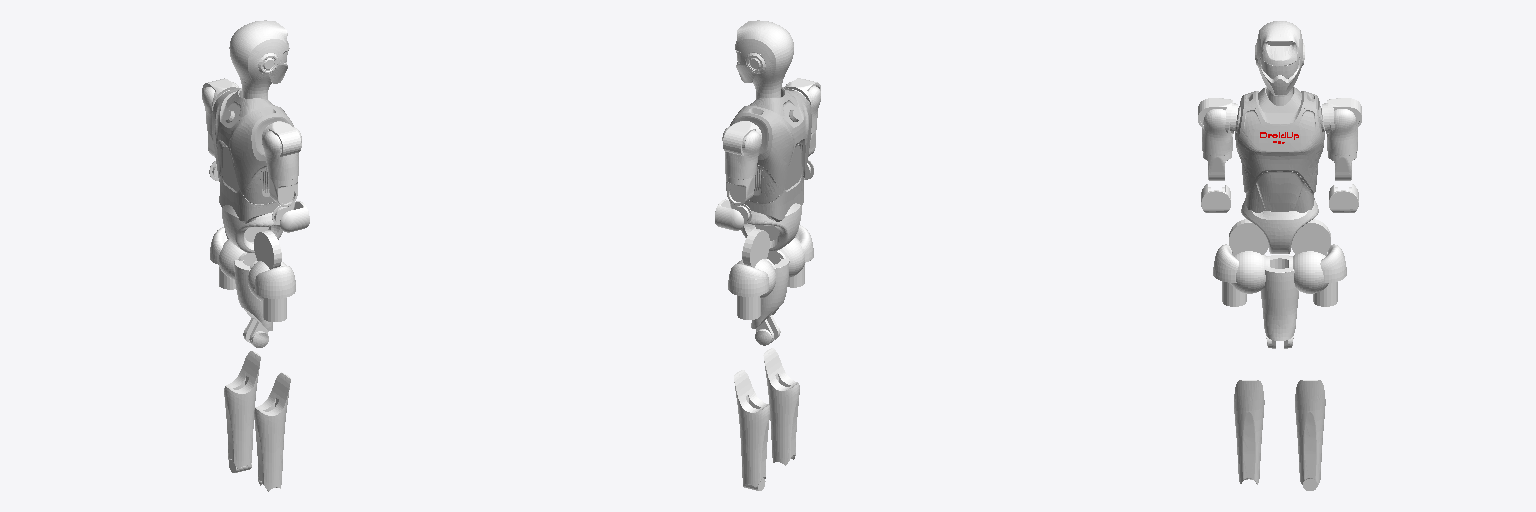
--- Facts derived from the render (not from the file) ---
Views: 3 orthographic renders of the robot side by side, from view 1: azimuth 30°, elevation 25°; view 2: azimuth 150°, elevation 25°; view 3: azimuth 270°, elevation 25°.
Model x2 with 23 links and 22 joints (18 revolute, 4 fixed), rooted at pelvis_link, posed all joints at 0.
Visible links, largest first — view 1: torso_link, head_link, R_knee_pitch_link, L_knee_pitch_link, R_hip_roll_link, pelvis_link, R_shoulder_roll_link, L_hip_yaw_link, R_elbow_pitch_link, L_hip_pitch_link, R_shoulder_pitch_link, R_shoulder_yaw_link (+1 smaller); view 2: torso_link, head_link, R_knee_pitch_link, L_knee_pitch_link, L_hip_roll_link, pelvis_link, L_shoulder_roll_link, R_hip_yaw_link, L_elbow_pitch_link, R_hip_pitch_link, L_shoulder_pitch_link, L_shoulder_yaw_link (+2 smaller); view 3: torso_link, head_link, L_knee_pitch_link, R_knee_pitch_link, L_hip_roll_link, R_hip_roll_link, pelvis_link, L_hip_yaw_link, R_hip_yaw_link, L_hip_pitch_link, R_hip_pitch_link, L_shoulder_roll_link (+5 smaller).
Link boxes in pixels (left/top/right/bottom): torso_link: left=212, top=88, right=293, bottom=223; head_link: left=229, top=20, right=289, bottom=99; R_knee_pitch_link: left=254, top=372, right=290, bottom=491; L_knee_pitch_link: left=224, top=351, right=260, bottom=469; R_hip_roll_link: left=254, top=230, right=295, bottom=321; pelvis_link: left=222, top=205, right=282, bottom=252; R_shoulder_roll_link: left=262, top=127, right=301, bottom=180; L_hip_yaw_link: left=234, top=260, right=272, bottom=347; R_elbow_pitch_link: left=272, top=201, right=309, bottom=232; L_hip_pitch_link: left=218, top=239, right=256, bottom=279; R_shoulder_pitch_link: left=262, top=121, right=301, bottom=156; R_shoulder_yaw_link: left=269, top=177, right=297, bottom=206; torso_link: left=730, top=87, right=811, bottom=221; head_link: left=735, top=20, right=793, bottom=98; R_knee_pitch_link: left=763, top=348, right=799, bottom=465; L_knee_pitch_link: left=734, top=370, right=769, bottom=487; L_hip_roll_link: left=728, top=229, right=769, bottom=319; pelvis_link: left=741, top=203, right=801, bottom=250; L_shoulder_roll_link: left=722, top=126, right=761, bottom=179; R_hip_yaw_link: left=751, top=258, right=789, bottom=345; L_elbow_pitch_link: left=715, top=199, right=751, bottom=230; R_hip_pitch_link: left=767, top=238, right=804, bottom=277; L_shoulder_pitch_link: left=723, top=121, right=761, bottom=155; L_shoulder_yaw_link: left=726, top=175, right=754, bottom=205; torso_link: left=1235, top=86, right=1324, bottom=212; head_link: left=1255, top=21, right=1304, bottom=105; L_knee_pitch_link: left=1295, top=380, right=1325, bottom=484; R_knee_pitch_link: left=1234, top=380, right=1264, bottom=484; L_hip_roll_link: left=1291, top=219, right=1346, bottom=306; R_hip_roll_link: left=1213, top=219, right=1268, bottom=306; pelvis_link: left=1241, top=200, right=1318, bottom=253; L_hip_yaw_link: left=1264, top=255, right=1298, bottom=348; R_hip_yaw_link: left=1261, top=255, right=1295, bottom=348; L_hip_pitch_link: left=1289, top=251, right=1328, bottom=293; R_hip_pitch_link: left=1230, top=251, right=1269, bottom=293; L_shoulder_roll_link: left=1327, top=109, right=1357, bottom=155.
Size in the robot's own frame: 0.248 by 0.54 by 1.68 metres.
22 mesh visuals loaded from 23 distinct referenced files (22 binary STL); not drawn: 1 (reference not matched to a file when rendering).

robot.urdf — x2:
<robot name="x2">
  <mujoco>
    <compiler meshdir="./meshes" discardvisual="false" />
  </mujoco>

  <link name="pelvis_link">
    <inertial>
      <origin xyz="0 0 0.001" rpy="0 0 0" />
      <mass value="0.1" />
      <inertia ixx="0.00003053" ixy="0.0000000" ixz="0.00000000" iyy="0.00003053" iyz="0.00000000" izz="0.00000500" />
    </inertial>
    <visual>
      <origin xyz="0 0 0" rpy="0 0 0" />
      <geometry>
        <mesh filename="meshes/pelvis_link.STL" />
      </geometry>
      <material name="">
        <color rgba="1 1 1 1" />
      </material>
    </visual>
    <collision>
      <origin xyz="0 0 0" rpy="0 0 0" />
      <geometry>
        <mesh filename="meshes/pelvis_link.STL" />
      </geometry>
    </collision>
  </link>
  <link name="L_hip_yaw_link">
    <inertial>
      <origin xyz="-0.0005618 0.01983101 0.00885104" rpy="0 0 0" />
      <mass value="0.841" />
      <inertia ixx="0.00175231" ixy="0.00003788" ixz="0.00000418" iyy="0.00059335" iyz="-0.00014762" izz="0.00173830" />
    </inertial>
    <visual>
      <origin xyz="0 0 0" rpy="0 0 0" />
      <geometry>
        <mesh filename="meshes/L_hip_yaw_link.STL" />
      </geometry>
      <material name="">
        <color rgba="1 1 1 1" />
      </material>
    </visual>
    <collision>
      <origin xyz="0 0 0" rpy="0 0 0" />
      <geometry>
        <mesh filename="meshes/L_hip_yaw_link.STL" />
      </geometry>
    </collision> -->
  </link>
  <joint name="L_hip_yaw" type="revolute">
    <origin xyz="0 0 0" rpy="0 0 0" />
    <parent link="pelvis_link" />
    <child link="L_hip_yaw_link" />
    <axis xyz="0 0 1" />
    <limit lower="-0.7854" upper="0.7854" effort="100" velocity="30" />
  </joint>
  <link name="L_hip_roll_link">
    <inertial>
      <origin xyz="-0.03247252 0.00017925 -0.07264839" rpy="0 0 0" />
      <mass value="2.667" />
      <inertia ixx="0.007970422" ixy="-0.00001767" ixz="0.00171027" iyy="0.01086223" iyz="-0.00001804" izz="0.00754180" />
    </inertial>
    <visual>
      <origin xyz="0 0 0" rpy="0 0 0" />
      <geometry>
        <mesh filename="meshes/L_hip_roll_link.STL" />
      </geometry>
      <material name="">
        <color rgba="1 1 1 1" />
      </material>
    </visual>
    <collision>
      <origin xyz="0 0 0" rpy="0 0 0" />
      <geometry>
        <mesh filename="meshes/L_hip_roll_link.STL" />
      </geometry>
    </collision> -->
  </link>
  <joint name="L_hip_roll" type="revolute">
    <origin xyz="-0.0095 0.10 0" rpy="0 0 0" />
    <parent link="L_hip_yaw_link" />
    <child link="L_hip_roll_link" />
    <axis xyz="1 0 0" />
    <limit lower="-0.349" upper="0.524" effort="100" velocity="30" />
  </joint>
  <link name="L_hip_pitch_link">
    <inertial>
      <origin xyz="0.00382921 0 -0.18548450" rpy="0 0 0" />
      <mass value="1.664" />
      <inertia ixx="0.01443710" ixy="0.00000000" ixz="-0.00089513" iyy="0.01484426" iyz="-0.00000003" izz="0.00315739" />
    </inertial>
    <visual>
      <origin xyz="0 0 0" rpy="0 0 0" />
      <geometry>
        <mesh filename="meshes/L_hip_pitch_link.STL" />
      </geometry>
      <material name="">
        <color rgba="1 1 1 1" />
      </material>
    </visual>
    <collision>
      <origin xyz="0 0 0" rpy="0 0 0" />
      <geometry>
        <mesh filename="meshes/L_hip_pitch_link.STL" />
      </geometry>
    </collision>
  </link>
  <joint name="L_hip_pitch" type="revolute">
    <origin xyz="0.0085 -0.00100000000000001 -0.11" rpy="0 0 0" />
    <parent link="L_hip_roll_link" />
    <child link="L_hip_pitch_link" />
    <axis xyz="0 1 0" />
    <limit lower="-2.4434" upper="0.526" effort="100" velocity="30" />
  </joint>
  <link name="L_knee_pitch_link">
    <inertial>
      <origin xyz="0.00140265 0 -0.15875986" rpy="0 0 0" />
      <mass value="1.125" />
      <inertia ixx="0.00985892" ixy="0.00000000" ixz="0.00035856" iyy="0.00999859" iyz="-0.00000003" izz="0.00102379" />
    </inertial>
    <visual>
      <origin xyz="0 0 0" rpy="0 0 0" />
      <geometry>
        <mesh filename="meshes/L_knee_pitch_link.STL" />
      </geometry>
      <material name="">
        <color rgba="1 1 1 1" />
      </material>
    </visual>
    <collision>
      <origin xyz="0 0 0" rpy="0 0 0" />
      <geometry>
        <mesh filename="meshes/L_knee_pitch_link.STL" />
      </geometry>
    </collision>
  </link>
  <joint name="L_knee_pitch" type="revolute">
    <origin xyz="0 0 -0.35" rpy="0 0 0" />
    <parent link="L_hip_pitch_link" />
    <child link="L_knee_pitch_link" />
    <axis xyz="0 1 0" />
    <limit lower="-0" upper="2.3561" effort="100" velocity="30" />
  </joint>
  <link name="L_ankle_pitch_link">
    <inertial>
      <origin xyz="0.0393987623680991 -0.000237277713772188 -0.0784143417886232" rpy="0 0 0" />
      <mass value="0.556154115746433" />
       <inertia ixx="0.00032584056406277" ixy="-3.52704729229917E-06" ixz="-3.15470198590693E-05" iyy="0.00243296196329658" iyz="3.92516794179968E-07" izz="0.00260484732439791" />
<!--      <inertia ixx="0.01" ixy="0" ixz="-2.9E-06" iyy="0.01" iyz="0" izz="0.01"/>-->
    </inertial>
    <visual>
      <origin xyz="0 0 0" rpy="0 0 0" />
      <geometry>
        <mesh filename="meshes/L_ankle_pitch_link.STL" />
      </geometry>
      <material name="">
        <color rgba="1 1 1 1" />
      </material>
    </visual>
    <collision>
      <origin xyz="-0.14 0.00 -0.087" rpy="0 0 0"/>
      <geometry>
        <sphere radius="0.005"/>
      </geometry>
    </collision>
    <collision>
      <origin xyz="-0.080 0.045 -0.087" rpy="0 0 0"/>
      <geometry>
        <sphere radius="0.005"/>
      </geometry>
    </collision>

        <collision>
      <origin xyz="-0.115 0.035 -0.087" rpy="0 0 0"/>
      <geometry>
        <sphere radius="0.005"/>
      </geometry>
    </collision>
    <collision>
      <origin xyz="-0.115 -0.035 -0.087" rpy="0 0 0"/>
      <geometry>
        <sphere radius="0.005"/>
      </geometry>
    </collision>

    <collision>
      <origin xyz="-0.080 -0.045 -0.087" rpy="0 0 0"/>
      <geometry>
        <sphere radius="0.005"/>
      </geometry>
    </collision>
    <collision>
      <origin xyz="0.090 0.050 -0.087" rpy="0 0 0"/>
      <geometry>
        <sphere radius="0.005"/>
      </geometry>
    </collision>
    <collision>
      <origin xyz="0.090 -0.050 -0.087" rpy="0 0 0"/>
      <geometry>
        <sphere radius="0.005"/>
      </geometry>
    </collision>

    <collision>
      <origin xyz="0.120 -0.00 -0.087" rpy="0 0 0"/>
      <geometry>
        <sphere radius="0.005"/>
      </geometry>
    </collision>

    <collision>
      <origin xyz="0.120 0.045 -0.087" rpy="0 0 0"/>
      <geometry>
        <sphere radius="0.005"/>
      </geometry>
    </collision>

    <collision>
      <origin xyz="0.120 -0.045 -0.087" rpy="0 0 0"/>
      <geometry>
        <sphere radius="0.005"/>
      </geometry>
    </collision>

    <collision>
      <origin xyz="0.150 -0.00 -0.087" rpy="0 0 0"/>
      <geometry>
        <sphere radius="0.005"/>
      </geometry>
    </collision>
  </link>
  <joint name="L_ankle_pitch" type="revolute">
    <origin xyz="0 0 -0.35" rpy="0 0 0" />
    <parent link="L_knee_pitch_link" />
    <child link="L_ankle_pitch_link" />
    <axis xyz="0 1 0" />
    <limit lower="-1.2217" upper="1.2217" effort="50" velocity="30" />
  </joint>
  <link name="R_hip_yaw_link">
    <inertial>
      <origin xyz="-0.00116447172536395 -0.0404494528952502 1.93208404151757E-18" rpy="0 0 0" />
      <mass value="0.21920189004537" />
      <inertia ixx="0.00059823911672333" ixy="-1.52005393557497E-05" ixz="-6.79522760641359E-21" iyy="0.000157505412929931" iyz="2.64697796016969E-20" izz="0.000555362014045214" />
    </inertial>
    <visual>
      <origin xyz="0 0 0" rpy="0 0 0" />
      <geometry>
        <mesh filename="meshes/R_hip_yaw_link.STL" />
      </geometry>
      <material name="">
        <color rgba="1 1 1 1" />
      </material>
    </visual>
    <collision>
      <origin xyz="0 0 0" rpy="0 0 0" />
      <geometry>
        <mesh filename="meshes/R_hip_yaw_link.STL" />
      </geometry>
    </collision> -->
  </link>
  <joint name="R_hip_yaw" type="revolute">
    <origin xyz="0 0 0" rpy="0 0 0" />
    <parent link="pelvis_link" />
    <child link="R_hip_yaw_link" />
    <axis xyz="0 0 1" />
    <limit lower="-0.7854" upper="0.7854" effort="100" velocity="30" />
  </joint>
  <link name="R_hip_roll_link">
    <inertial>
      <origin xyz="-0.03247252 0.00017925 -0.07264839" rpy="0 0 0" />
      <mass value="2.667" />
      <inertia ixx="0.007970422" ixy="-0.00001767" ixz="0.00171027" iyy="0.01086223" iyz="-0.00001804" izz="0.00754180" />
    </inertial>
    <visual>
      <origin xyz="0 0 0" rpy="0 0 0" />
      <geometry>
        <mesh filename="meshes/R_hip_roll_link.STL" />
      </geometry>
      <material name="">
        <color rgba="1 1 1 1" />
      </material>
    </visual>
    <collision>
      <origin xyz="0 0 0" rpy="0 0 0" />
      <geometry>
        <mesh filename="meshes/R_hip_roll_link.STL" />
      </geometry>
    </collision> -->
  </link>
  <joint name="R_hip_roll" type="revolute">
    <origin xyz="-0.0095 -0.10 0" rpy="0 0 0" />
    <parent link="R_hip_yaw_link" />
    <child link="R_hip_roll_link" />
    <axis xyz="1 0 0" />
    <limit lower="-0.524" upper="0.349" effort="100" velocity="30" />
  </joint>
  <link name="R_hip_pitch_link">
    <inertial>
      <origin xyz="0.00382921 0 -0.1854850" rpy="0 0 0" />
      <mass value="1.664" />
      <inertia ixx="0.01443710" ixy="-0.00000000" ixz="-0.00089513" iyy="0.01484426" iyz="0.00000003" izz="0.00315739" />
    </inertial>
    <visual>
      <origin xyz="0 0 0" rpy="0 0 0" />
      <geometry>
        <mesh filename="meshes/R_hip_pitch_link.STL" />
      </geometry>
      <material name="">
        <color rgba="1 1 1 1" />
      </material>
    </visual>
    <collision>
      <origin xyz="0 0 0" rpy="0 0 0" />
      <geometry>
        <mesh filename="meshes/R_hip_pitch_link.STL" />
      </geometry>
    </collision>
  </link>
  <joint name="R_hip_pitch" type="revolute">
    <origin xyz="0.0085 -0.001 -0.11" rpy="0 0 0" />
    <parent link="R_hip_roll_link" />
    <child link="R_hip_pitch_link" />
    <axis xyz="0 1 0" />
    <limit lower="-2.4434" upper="0.526" effort="100" velocity="30" />
  </joint>
  <link name="R_knee_pitch_link">
    <inertial>
      <origin xyz="0.00140265 0 -0.15875986" rpy="0 0 0" />
      <mass value="1.125" />
      <inertia ixx="0.00985892" ixy="-0.00000000" ixz="0.00035856" iyy="0.00999859" iyz="0.00000003" izz="0.00102379" />
    </inertial>
    <visual>
      <origin xyz="0 0 0" rpy="0 0 0" />
      <geometry>
        <mesh filename="meshes/R_knee_pitch_link.STL" />
      </geometry>
      <material name="">
        <color rgba="1 1 1 1" />
      </material>
    </visual>
    <collision>
      <origin xyz="0 0 0" rpy="0 0 0" />
      <geometry>
        <mesh filename="meshes/R_knee_pitch_link.STL" />
      </geometry>
    </collision>
  </link>
  <joint name="R_knee_pitch" type="revolute">
    <origin xyz="0 0 -0.35" rpy="0 0 0" />
    <parent link="R_hip_pitch_link" />
    <child link="R_knee_pitch_link" />
    <axis xyz="0 1 0" />
    <limit lower="-0" upper="2.3561" effort="100" velocity="30" />
  </joint>
  <link name="R_ankle_pitch_link">
    <inertial>
      <origin xyz="0.0393998134614837 0.000237080400869755 -0.078414481781949" rpy="0 0 0" />
      <mass value="0.556160945494453" />
       <inertia ixx="0.00032584056406277" ixy="3.52704729229917E-06" ixz="-3.15470198590693E-05" iyy="0.00243296196329658" iyz="-3.92516794179968E-07" izz="0.00260484732439791" />
<!--      <inertia ixx="0.01" ixy="0" ixz="-2.9E-06" iyy="0.01" iyz="0" izz="0.01"/>-->
    </inertial>
    <visual>
      <origin xyz="0 0 0" rpy="0 0 0" />
      <geometry>
        <mesh filename="meshes/R_ankle_pitch_link.STL" />
      </geometry>
      <material name="">
        <color rgba="1 1 1 1" />
      </material>
    </visual>
    <collision>
      <origin xyz="-0.14 0.00 -0.087" rpy="0 0 0"/>
      <geometry>
        <sphere radius="0.005"/>
      </geometry>
    </collision>

        <collision>
      <origin xyz="0.120 0.045 -0.087" rpy="0 0 0"/>
      <geometry>
        <sphere radius="0.005"/>
      </geometry>
    </collision>

    <collision>
      <origin xyz="0.120 -0.045 -0.087" rpy="0 0 0"/>
      <geometry>
        <sphere radius="0.005"/>
      </geometry>
    </collision>

    <collision>
      <origin xyz="0.120 -0.00 -0.087" rpy="0 0 0"/>
      <geometry>
        <sphere radius="0.005"/>
      </geometry>
    </collision>
    <collision>
      <origin xyz="-0.115 0.035 -0.087" rpy="0 0 0"/>
      <geometry>
        <sphere radius="0.005"/>
      </geometry>
    </collision>
    <collision>
      <origin xyz="-0.115 -0.035 -0.087" rpy="0 0 0"/>
      <geometry>
        <sphere radius="0.005"/>
      </geometry>
    </collision>


    <collision>
      <origin xyz="-0.080 0.045 -0.087" rpy="0 0 0"/>
      <geometry>
        <sphere radius="0.005"/>
      </geometry>
    </collision>
    <collision>
      <origin xyz="-0.080 -0.045 -0.087" rpy="0 0 0"/>
      <geometry>
        <sphere radius="0.005"/>
      </geometry>
    </collision>
    <collision>
      <origin xyz="0.090 0.050 -0.087" rpy="0 0 0"/>
      <geometry>
        <sphere radius="0.005"/>
      </geometry>
    </collision>
    <collision>
      <origin xyz="0.090 -0.050 -0.087" rpy="0 0 0"/>
      <geometry>
        <sphere radius="0.005"/>
      </geometry>
    </collision>
    <collision>
      <origin xyz="0.150 -0.00 -0.087" rpy="0 0 0"/>
      <geometry>
        <sphere radius="0.005"/>
      </geometry>
    </collision>
  </link>
  <joint name="R_ankle_pitch" type="revolute">
    <origin xyz="0 0 -0.35" rpy="0 0 0" />
    <parent link="R_knee_pitch_link" />
    <child link="R_ankle_pitch_link" />
    <axis xyz="0 1 0" />
    <limit lower="-1.2217" upper="1.2217" effort="50" velocity="20" />
  </joint>
  <link name="waist_yaw_link">
    <inertial>
      <origin xyz="-0.00574 0 0.18601" rpy="0 0 0" />
      <mass value="10.129" />
      <inertia ixx="0.16142168" ixy="-0.00000008" ixz="-0.00055992" iyy="0.14544225" iyz="-0.00000008" izz="0.08278995" />
    </inertial>
    <visual>
      <origin xyz="0 0 0" rpy="0 0 0" />
      <geometry>
        <mesh filename="meshes/waist_yaw_link.STL" />
      </geometry>
      <material name="">
        <color rgba="1 1 1 1" />
      </material>
    </visual>
    <collision>
      <origin xyz="0 0 0" rpy="0 0 0" />
      <geometry>
        <mesh filename="meshes/waist_yaw_link.STL" />
      </geometry>
    </collision>
  </link>
  <joint name="waist_yaw" type="fixed">
    <origin xyz="0 0 0.08375" rpy="0 0 0" />
    <parent link="pelvis_link" />
    <child link="waist_yaw_link" />
    <axis xyz="0 0 1" />
    <limit lower="-1.047" upper="1.047" effort="60" velocity="43" />
  </joint>
  <link name="torso_link">
    <inertial>
      <origin xyz="0.07801 0.00014123 0.21228" rpy="0 0 0" />
      <mass value="0.0051207" />
      <inertia ixx="1.2629E-06" ixy="-5.8501E-11" ixz="4.3873E-07" iyy="1.0993E-06" iyz="5.4154E-10" izz="9.4943E-07" />
    </inertial>
    <visual>
      <origin xyz="0 0 0" rpy="0 0 0" />
      <geometry>
        <mesh filename="meshes/torso_link.STL" />
      </geometry>
      <material name="">
        <color rgba="0.823529411764706 0.823529411764706 0.823529411764706 1" />
      </material>
    </visual>
    <collision>
      <origin xyz="0 0 0" rpy="0 0 0" />
      <geometry>
        <mesh filename="meshes/torso_link.STL" />
      </geometry>
    </collision>
  </link>
  <joint name="torso" type="fixed">
    <origin xyz="0 0 0.03675" rpy="0 0 0" />
    <parent link="waist_yaw_link" />
    <child link="torso_link" />
    <axis xyz="0 0 0" />
  </joint>
  <link name="logo_link">
    <inertial>
      <origin xyz="0.0780100780349841 0.000141230703059829 0.212276372633898" rpy="0 0 0" />
      <mass value="0.00512067007990884" />
      <inertia ixx="1.26286978002528E-06" ixy="-5.85012656774689E-11" ixz="4.38730918441945E-07" iyy="1.09931895773858E-06" iyz="5.41542411728218E-10" izz="9.49430143120174E-07" />
    </inertial>
    <visual>
      <origin xyz="0 0 0" rpy="0 0 0" />
      <geometry>
        <mesh filename="meshes/logo_link.STL" />
      </geometry>
      <material name="">
        <color rgba="1 0 0 1" />
      </material>
    </visual>
    <collision>
      <origin xyz="0 0 0" rpy="0 0 0" />
      <geometry>
        <mesh filename="meshes/logo_link.STL" />
      </geometry>
    </collision>
  </link>
  <joint name="logo" type="fixed">
    <origin xyz="0 0 0" rpy="0 0 0" />
    <parent link="torso_link" />
    <child link="logo_link" />
    <axis xyz="0 0 0" />
  </joint>
  <link name="head_link">
    <inertial>
      <origin xyz="0.01547561 0 0.16472894" rpy="0 0 0" />
      <mass value="1.67" />
      <inertia ixx="0.00882503" ixy="0.00000000" ixz="0.00010108" iyy="0.01008134" iyz="0.00000000" izz="0.00524807" />
    </inertial>
    <visual>
      <origin xyz="0 0 0" rpy="0 0 0" />
      <geometry>
        <mesh filename="meshes/head_link.STL" />
      </geometry>
      <material name="">
        <color rgba="1 1 1 1" />
      </material>
    </visual>
    <collision>
      <origin xyz="0 0 0" rpy="0 0 0" />
      <geometry>
        <mesh filename="meshes/head_link.STL" />
      </geometry>
    </collision>
  </link>
  <joint name="head" type="fixed">
    <origin xyz="0 0 0.3645" rpy="0 0 0" />
    <parent link="torso_link" />
    <child link="head_link" />
    <axis xyz="0 0 1" />
    <limit lower="-1.571" upper="1.571" effort="50" velocity="5" />
  </joint>
  <link name="L_shoulder_pitch_link">
    <inertial>
      <origin xyz="0 0.02870482 0.00006450" rpy="0 0 0" />
      <mass value="0.08" />
      <inertia ixx="0.00004183" ixy="0.00000000" ixz="0.00000000" iyy="0.00006966" iyz="0.00000004" izz="0.00009307" />
    </inertial>
    <visual>
      <origin xyz="0 0 0" rpy="0 0 0" />
      <geometry>
        <mesh filename="meshes/L_shoulder_pitch_link.STL" />
      </geometry>
      <material name="">
        <color rgba="1 1 1 1" />
      </material>
    </visual>
    <collision>
      <origin xyz="0 0 0" rpy="0 0 0" />
      <geometry>
        <mesh filename="meshes/L_shoulder_pitch_link.STL" />
      </geometry>
    </collision>
  </link>
  <joint name="L_shoulder_pitch" type="revolute">
    <origin xyz="-0.01 0.14477 0.31534" rpy="0.17453 0 0" />
    <parent link="torso_link" />
    <child link="L_shoulder_pitch_link" />
    <axis xyz="0 1 0" />
    <limit lower="-2" upper="2" effort="30" velocity="30" />
  </joint>
  <link name="L_shoulder_roll_link">
    <inertial>
      <origin xyz="-0.00014962 0.00021332 -0.04253615" rpy="0 0 0" />
      <mass value="0.8" />
      <inertia ixx="0.00053581" ixy="0.00000000" ixz="-0.00000191" iyy="0.00055551" iyz="-0.00000262" izz="0.00012232" />
    </inertial>
    <visual>
      <origin xyz="0 0 0" rpy="0 0 0" />
      <geometry>
        <mesh filename="meshes/L_shoulder_roll_link.STL" />
      </geometry>
      <material name="">
        <color rgba="1 1 1 1" />
      </material>
    </visual>
    <collision>
      <origin xyz="0 0 0" rpy="0 0 0" />
      <geometry>
        <mesh filename="meshes/L_shoulder_roll_link.STL" />
      </geometry>
    </collision>
  </link>
  <joint name="L_shoulder_roll" type="revolute">
    <origin xyz="0 0.061 0" rpy="-0.17453 0 0" />
    <parent link="L_shoulder_pitch_link" />
    <child link="L_shoulder_roll_link" />
    <axis xyz="1 0 0" />
    <limit lower="-0.35" upper="1.57" effort="30" velocity="30" />
  </joint>
  <link name="L_shoulder_yaw_link">
    <inertial>
      <origin xyz="0.0049554 -0.00024132 -0.14234" rpy="0 0 0" />
      <mass value="0.5" />
      <inertia ixx="0.00062700" ixy="-0.00000023" ixz="-0.00003710" iyy="0.00060922" iyz="0.00000138" izz="0.00009956" />
    </inertial>
    <visual>
      <origin xyz="0 0 0" rpy="0 0 0" />
      <geometry>
        <mesh filename="meshes/L_shoulder_yaw_link.STL" />
      </geometry>
      <material name="">
        <color rgba="1 1 1 1" />
      </material>
    </visual>
    <collision>
      <origin xyz="0 0 0" rpy="0 0 0" />
      <geometry>
        <mesh filename="meshes/L_shoulder_yaw_link.STL" />
      </geometry>
    </collision>
  </link>
  <joint name="L_shoulder_yaw" type="revolute">
    <origin xyz="0 0 -0.112" rpy="0 0 0" />
    <parent link="L_shoulder_roll_link" />
    <child link="L_shoulder_yaw_link" />
    <axis xyz="0 0 1" />
    <limit lower="-2.618" upper="2.618" effort="30" velocity="30" />
  </joint>
  <link name="L_elbow_pitch_link">
    <inertial>
      <origin xyz="-0.0123066 0 -0.21266023" rpy="0 0 0" />
      <mass value="0.1" />
      <inertia ixx="0.00247994" ixy="0.00000000" ixz="0.00000793" iyy="0.00246631" iyz="0.00000001" izz="0.00012575" />
    </inertial>
    <visual>
      <origin xyz="0 0 0" rpy="0 0 0" />
      <geometry>
        <mesh filename="meshes/L_elbow_pitch_link.STL" />
      </geometry>
      <material name="">
        <color rgba="1 1 1 1" />
      </material>
    </visual>
    <collision>
      <origin xyz="0 0 0" rpy="0 0 0" />
      <geometry>
        <mesh filename="meshes/L_elbow_pitch_link.STL" />
      </geometry>
    </collision>
  </link>
  <joint name="L_elbow_pitch" type="revolute">
    <origin xyz="0.01 0 -0.173" rpy="0 -1.57 0" />
    <parent link="L_shoulder_yaw_link" />
    <child link="L_elbow_pitch_link" />
    <axis xyz="0 1 0" />
    <limit lower="-1" upper="1.60" effort="30" velocity="30" />
  </joint>
  <link name="R_shoulder_pitch_link">
    <inertial>
      <origin xyz="0 -0.02870482 0.00006450" rpy="0 0 0" />
      <mass value="0.08" />
      <inertia ixx="0.00004183" ixy="0.00000000" ixz="0.00000000" iyy="0.00006966" iyz="-0.00000004" izz="0.00009307" />
    </inertial>
    <visual>
      <origin xyz="0 0 0" rpy="0 0 0" />
      <geometry>
        <mesh filename="meshes/R_shoulder_pitch_link.STL" />
      </geometry>
      <material name="">
        <color rgba="1 1 1 1" />
      </material>
    </visual>
    <collision>
      <origin xyz="0 0 0" rpy="0 0 0" />
      <geometry>
        <mesh filename="meshes/R_shoulder_pitch_link.STL" />
      </geometry>
    </collision>
  </link>
  <joint name="R_shoulder_pitch" type="revolute">
    <origin xyz="-0.01 -0.14477 0.31534" rpy="-0.17453 0 0" />
    <parent link="torso_link" />
    <child link="R_shoulder_pitch_link" />
    <axis xyz="0 1 0" />
    <limit lower="-2" upper="2" effort="30" velocity="30" />
  </joint>
  <link name="R_shoulder_roll_link">
    <inertial>
      <origin xyz="0.00014963 -0.00021332 -0.04253615" rpy="0 0 0" />
      <mass value="0.8" />
      <inertia ixx="0.00053581" ixy="0.00000000" ixz="0.00000191" iyy="0.00055551" iyz="0.00000262" izz="0.00012232" />
    </inertial>
    <visual>
      <origin xyz="0 0 0" rpy="0 0 0" />
      <geometry>
        <mesh filename="meshes/R_shoulder_roll_link.STL" />
      </geometry>
      <material name="">
        <color rgba="1 1 1 1" />
      </material>
    </visual>
    <collision>
      <origin xyz="0 0 0" rpy="0 0 0" />
      <geometry>
        <mesh filename="meshes/R_shoulder_roll_link.STL" />
      </geometry>
    </collision>
  </link>
  <joint name="R_shoulder_roll" type="revolute">
    <origin xyz="0 -0.061 0" rpy="0.17453 0 0" />
    <parent link="R_shoulder_pitch_link" />
    <child link="R_shoulder_roll_link" />
    <axis xyz="1 0 0" />
    <limit lower="-1.57" upper="0.35" effort="30" velocity="30" />
  </joint>
  <link name="R_shoulder_yaw_link">
    <inertial>
      <origin xyz="0.00499440 -0.00024129 -0.14233699" rpy="0 0 0" />
      <mass value="0.5" />
      <inertia ixx="0.00062700" ixy="-0.00000023" ixz="-0.00003710" iyy="0.00060922" iyz="0.00000138" izz="0.00009956" />
    </inertial>
    <visual>
      <origin xyz="0 0 0" rpy="0 0 0" />
      <geometry>
        <mesh filename="meshes/R_shoulder_yaw_link.STL" />
      </geometry>
      <material name="">
        <color rgba="1 1 1 1" />
      </material>
    </visual>
    <collision>
      <origin xyz="0 0 0" rpy="0 0 0" />
      <geometry>
        <mesh filename="meshes/R_shoulder_yaw_link.STL" />
      </geometry>
    </collision>
  </link>
  <joint name="R_shoulder_yaw" type="revolute">
    <origin xyz="-3.8964E-05 0 -0.112" rpy="0 0 0" />
    <parent link="R_shoulder_roll_link" />
    <child link="R_shoulder_yaw_link" />
    <axis xyz="0 0 1" />
    <limit lower="-2.618" upper="2.618" effort="30" velocity="30" />
  </joint>
  <link name="R_elbow_pitch_link">
    <inertial>
      <origin xyz="-0.0123066 0 -0.21266023" rpy="0 0 0" />
      <mass value="0.1" />
      <inertia ixx="0.00247994" ixy="0.00000000" ixz="0.00000793" iyy="0.00246631" iyz="0.00000001" izz="0.00012575" />
    </inertial>
    <visual>
      <origin xyz="0 0 0" rpy="0 0 0" />
      <geometry>
        <mesh filename="meshes/R_elbow_pitch_link.STL" />
      </geometry>
      <material name="">
        <color rgba="1 1 1 1" />
      </material>
    </visual>
    <collision>
      <origin xyz="0 0 0" rpy="0 0 0" />
      <geometry>
        <mesh filename="meshes/R_elbow_pitch_link.STL" />
      </geometry>
    </collision>
  </link>
  <joint name="R_elbow_pitch" type="revolute">
    <origin xyz="0.010039 0 -0.173" rpy="0 -1.57 0" />
    <parent link="R_shoulder_yaw_link" />
    <child link="R_elbow_pitch_link" />
    <axis xyz="0 1 0" />
    <limit lower="-1" upper="1.60" effort="30" velocity="30" />
  </joint>


</robot>
